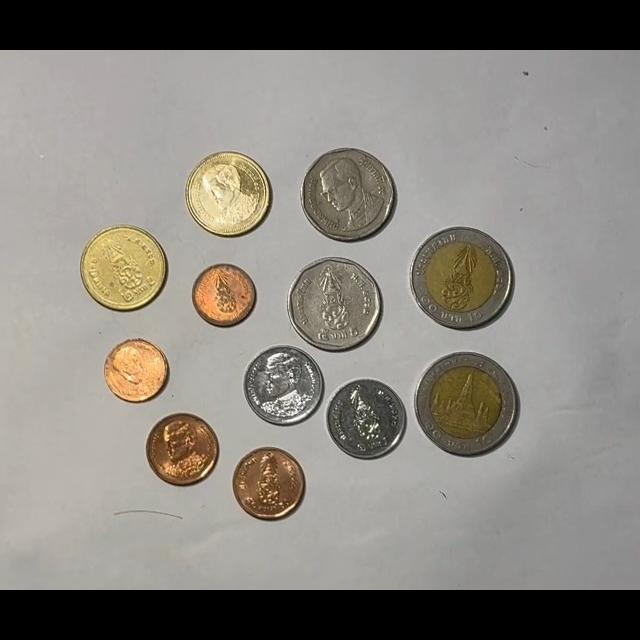1-baht: (325, 377, 407, 459), (243, 344, 323, 426)
10-baht: (415, 352, 520, 457), (409, 227, 513, 329)
2-baht: (80, 226, 167, 313), (185, 151, 271, 237)
25-satang: (104, 338, 170, 403), (192, 263, 257, 328)
5-baht: (288, 256, 383, 352), (300, 147, 396, 241)
50-satang: (146, 413, 219, 486), (232, 447, 305, 520)
